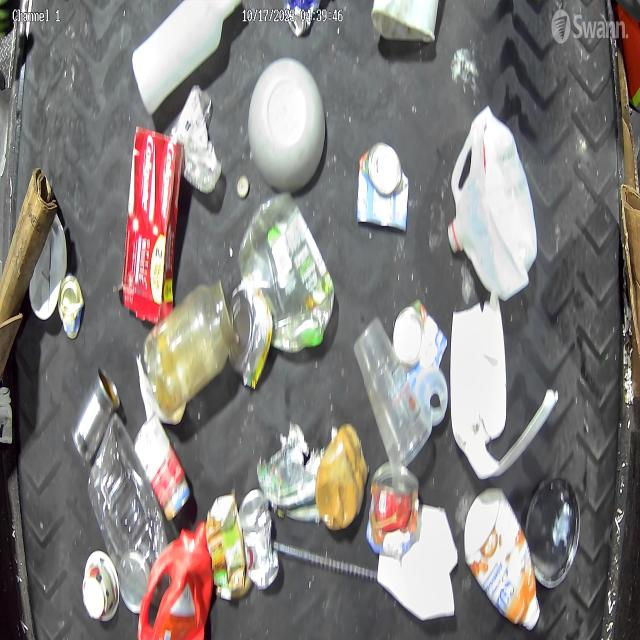can: (366, 461, 421, 557), (355, 139, 409, 234), (71, 364, 120, 462), (232, 284, 273, 388), (239, 489, 276, 595), (392, 299, 443, 373), (58, 271, 85, 340)
milk_jug: (448, 103, 538, 300)
non_white_jug: (140, 519, 215, 640)
